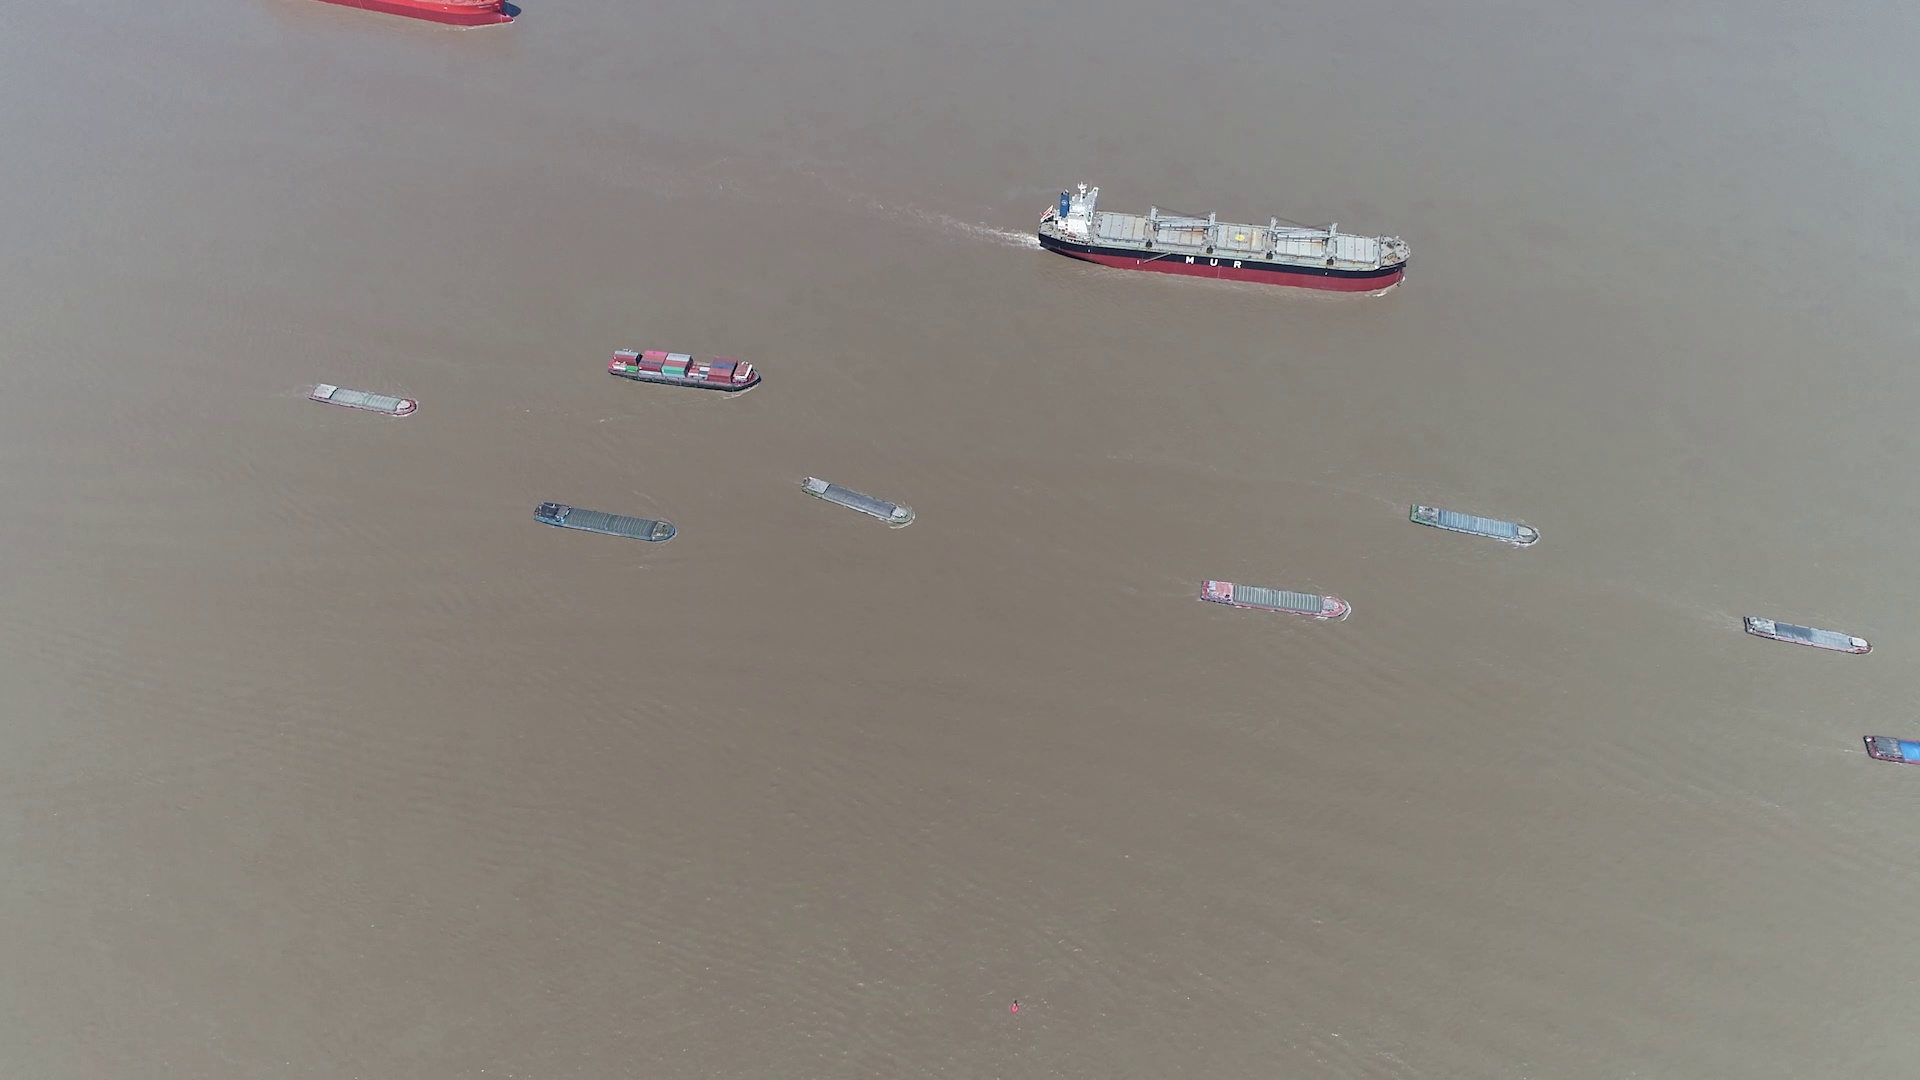ship: (1040, 185, 1411, 291), (608, 348, 762, 392), (533, 501, 675, 545), (1201, 580, 1352, 620), (1408, 502, 1539, 547), (1739, 615, 1875, 657), (802, 477, 915, 527), (309, 381, 418, 415), (1865, 735, 1919, 767)
